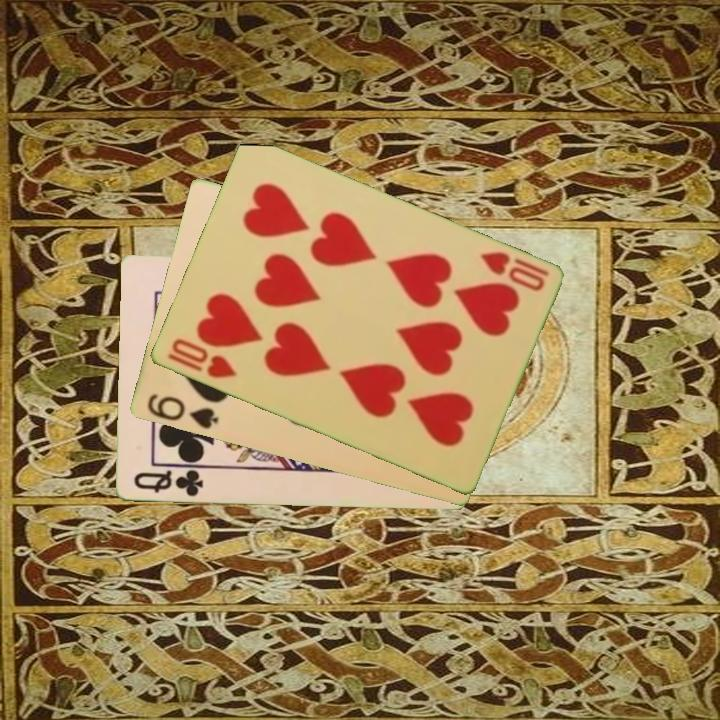10h: (163, 335, 240, 382), (476, 248, 551, 295)
6s: (143, 390, 221, 432)
Qc: (130, 467, 206, 500)
